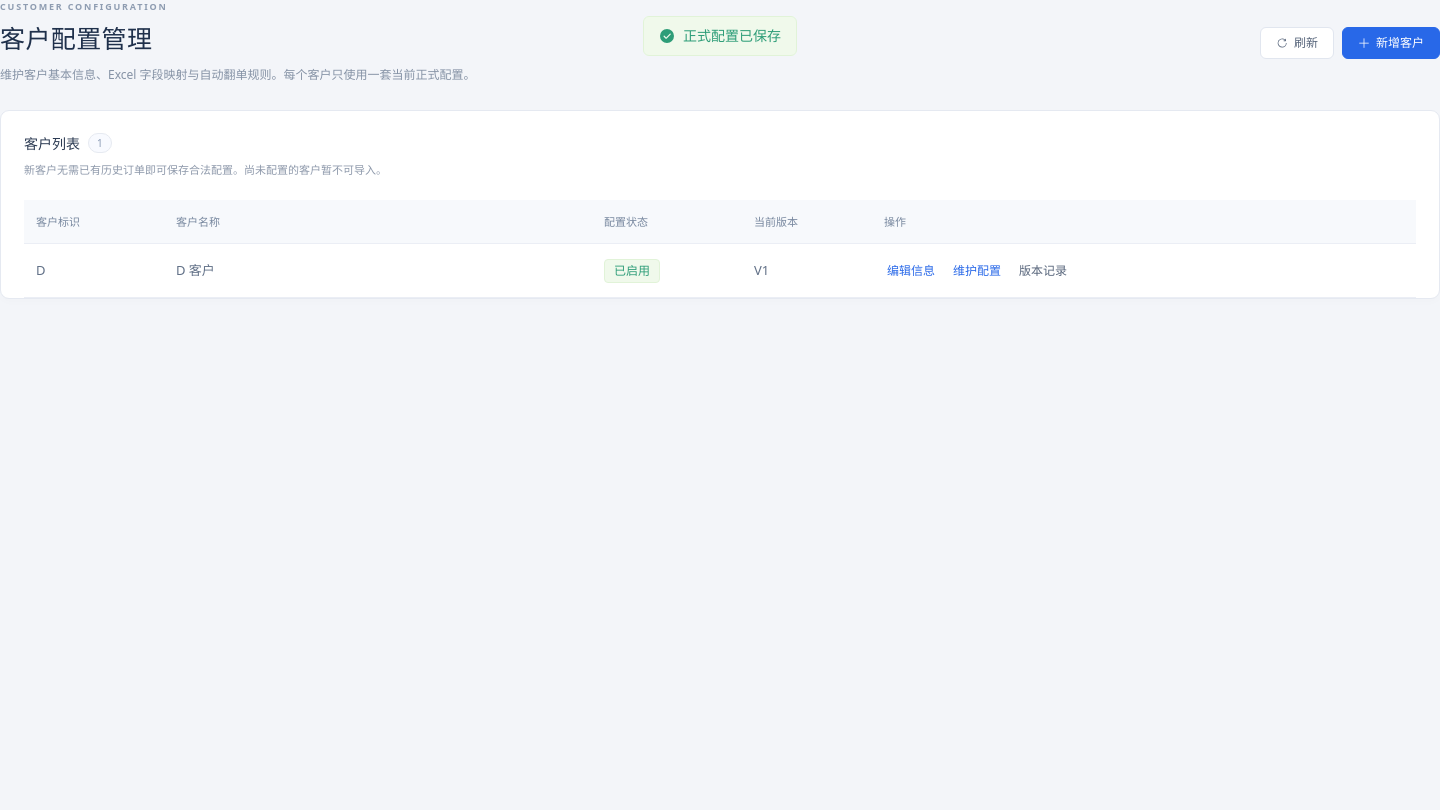
Scenario: 版本冲突展示后端提示并保留表单，不覆盖新配置
Click the button "维护配置" at x=977, y=271, box [950, 262, 1004, 280]
(page scrolled)
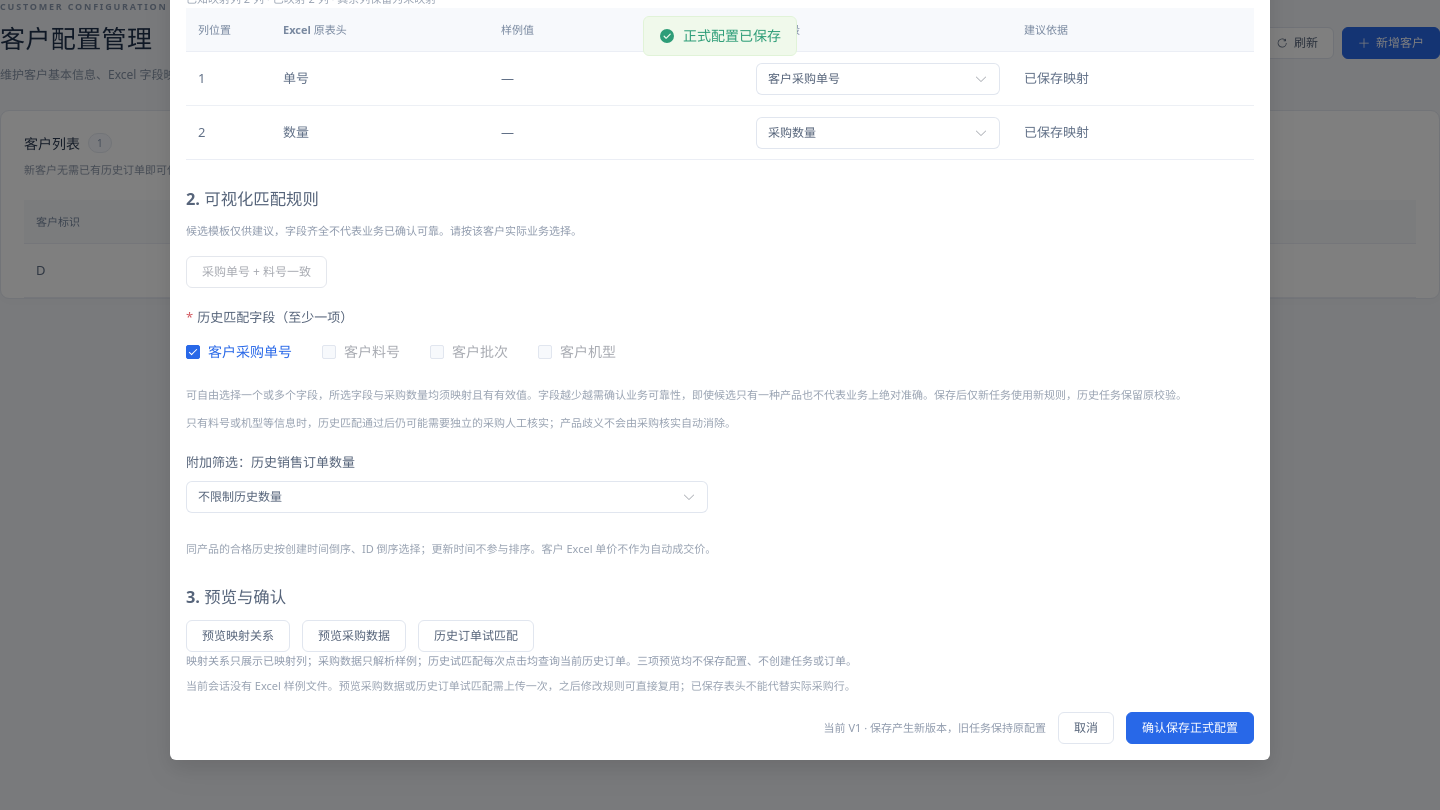
Click the button "确认保存正式配置" at x=1190, y=728, box [1126, 712, 1254, 744]
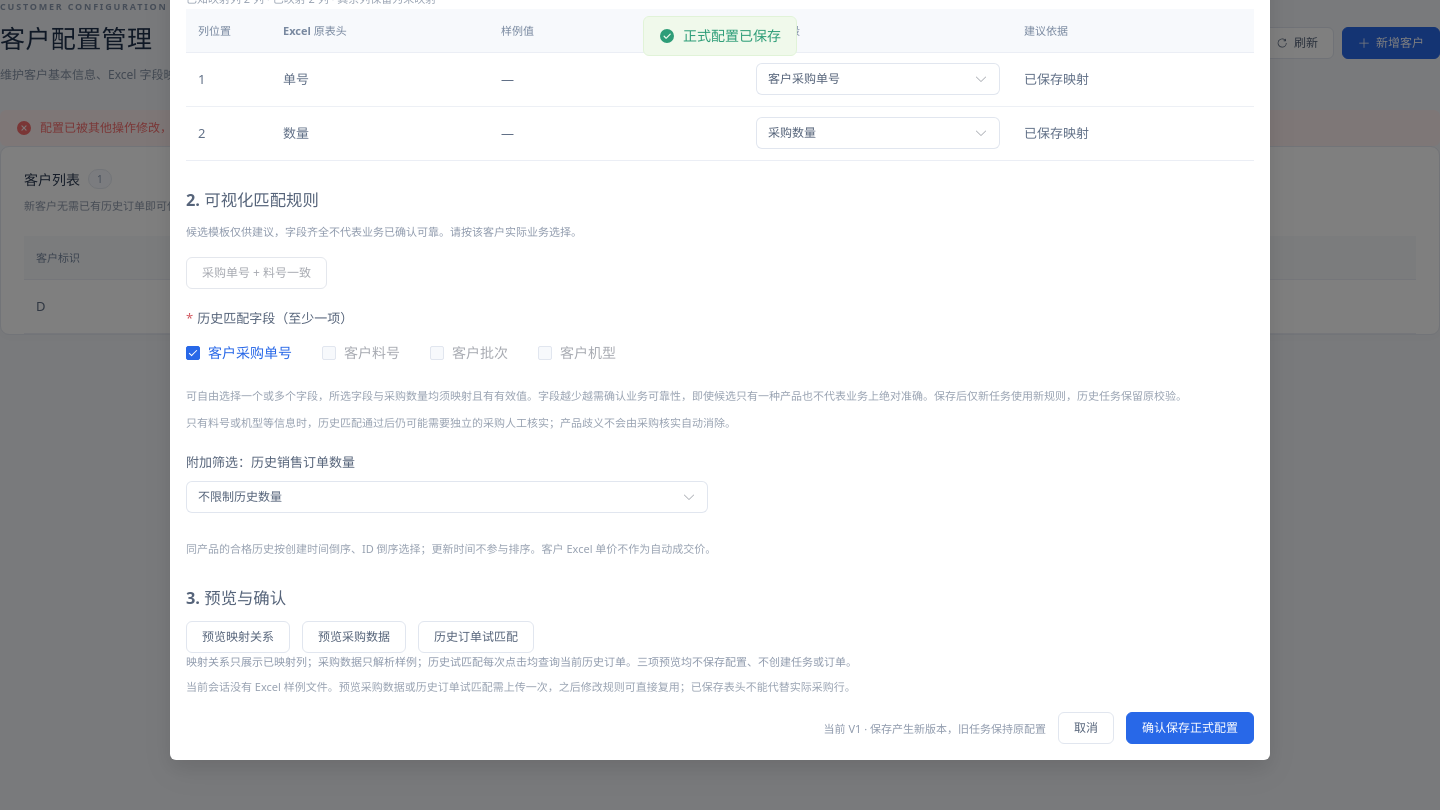
Expected: the button "确认保存正式配置" is shown, [1126, 712, 1254, 744]
Expected: the text "配置已被其他操作修改" is shown, [40, 119, 268, 136]
